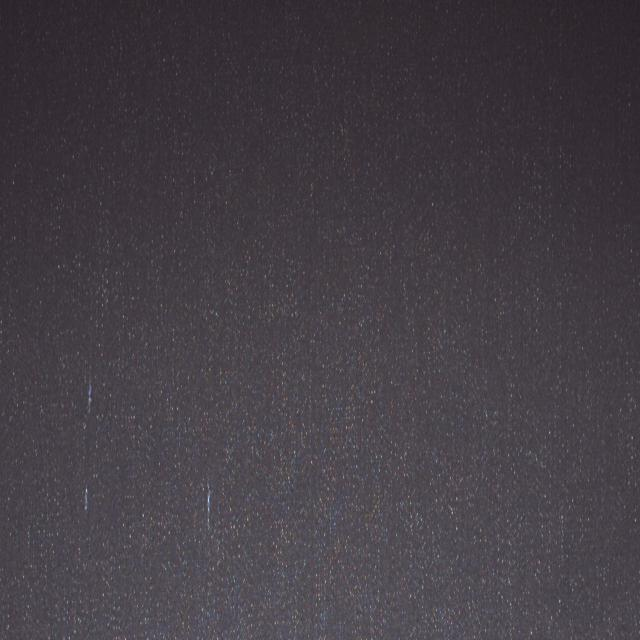Knot: (87, 384, 92, 414), (207, 485, 210, 530), (83, 486, 88, 512)
